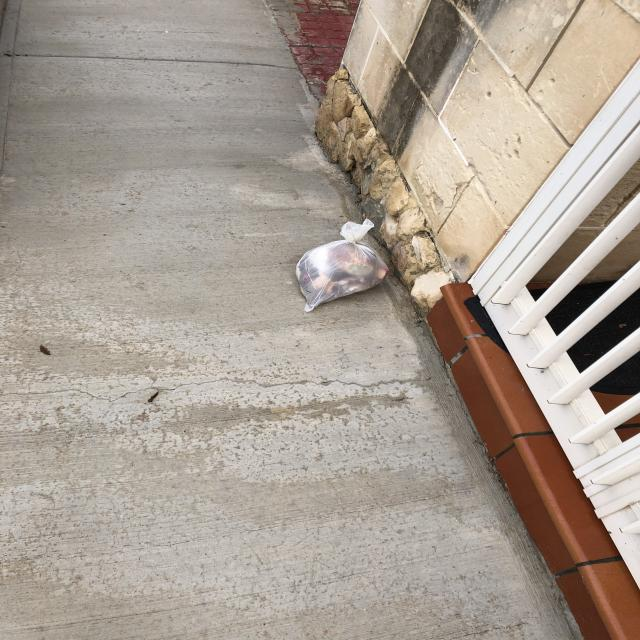Organic Waste -White Bag-: (282, 213, 397, 322)
